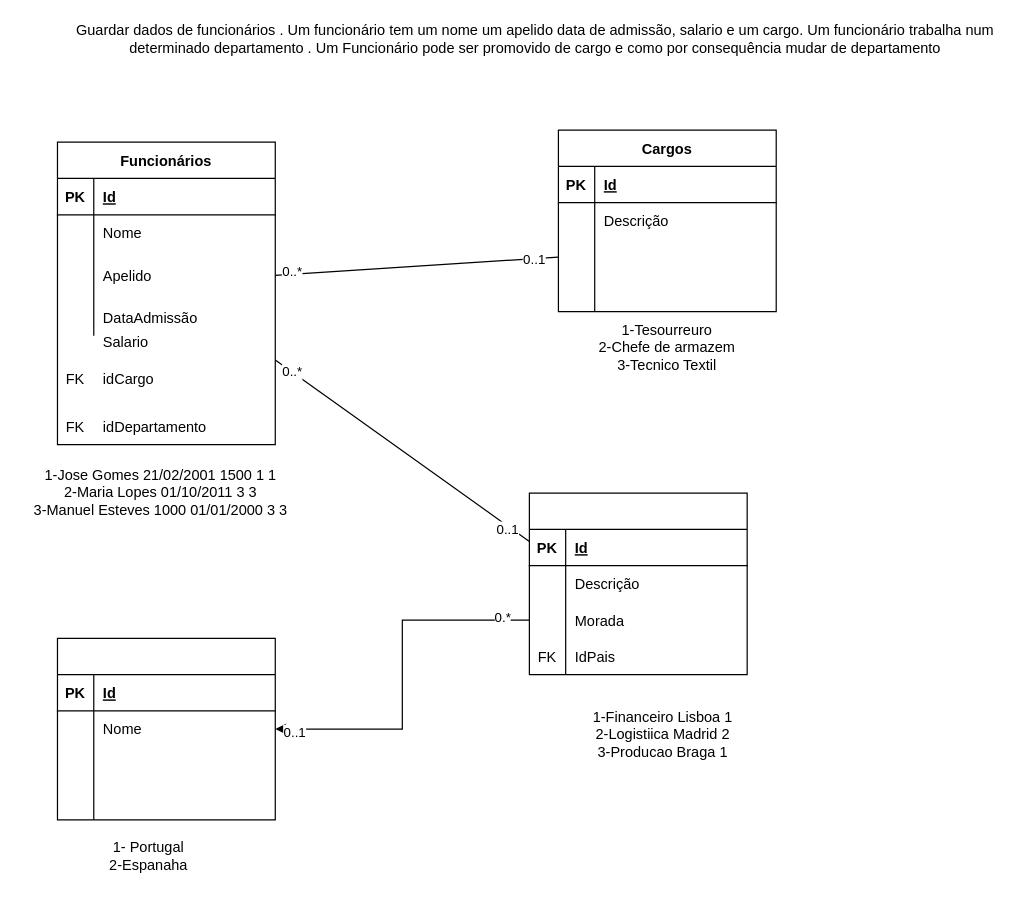
The diagram is 1033 pixels wide and 900 high, and some of its shapes have lost their labels. Here are the shapes that lost their labels. From the top down, the box of each, then its label:
(528, 492, 747, 675): Departamentos
(56, 637, 275, 820): Paises
